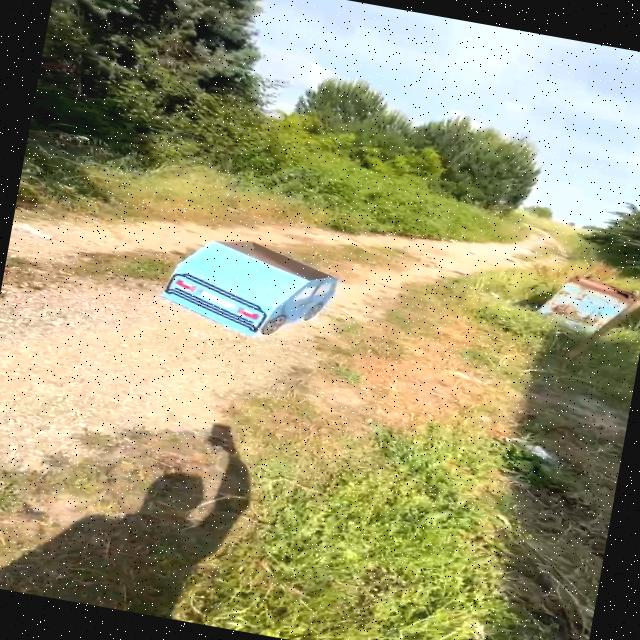blue_car: (140, 221, 367, 355)
